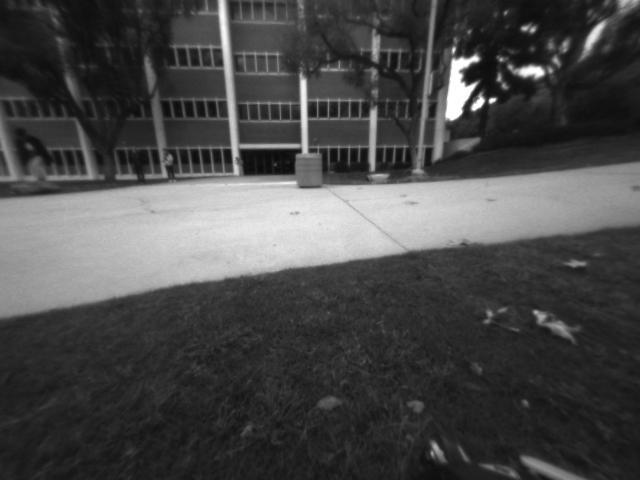trashcan: (293, 151, 322, 191)
